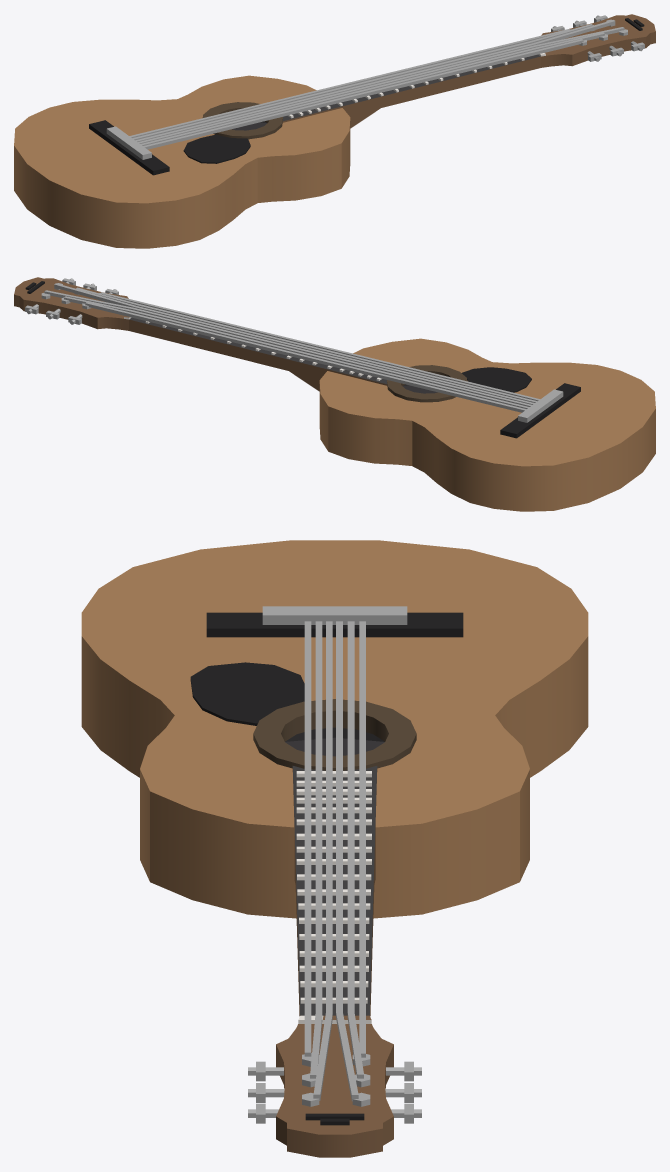
The model's file is SM_acousticGuitar_01.glb.
3 renders of one model, top to bottom at view 1: azimuth 30°, elevation 25°; view 2: azimuth 150°, elevation 25°; view 3: azimuth 270°, elevation 25°, orthographic. The views are drawn at different scales.
Visible parts, largest first — view 1: SM_acousticGuitar_01; view 2: SM_acousticGuitar_01; view 3: SM_acousticGuitar_01.
Part boxes in pixels (x1=…): SM_acousticGuitar_01: x1=14, y1=14, x2=655, y2=248; SM_acousticGuitar_01: x1=14, y1=277, x2=655, y2=511; SM_acousticGuitar_01: x1=81, y1=540, x2=588, y2=1157.
Size of the model in its own units: 1.05 by 0.0895 by 0.3758.
Materials: 1 (1 with a texture image).
